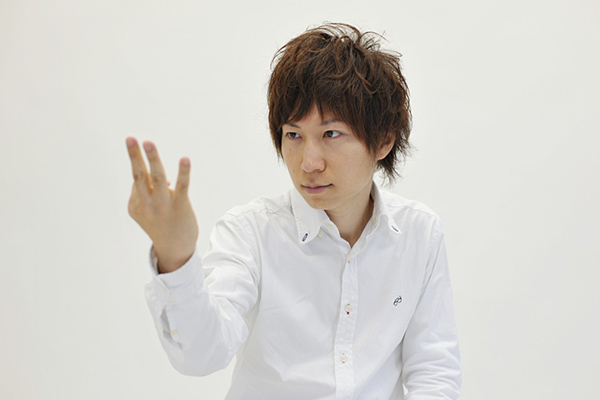face: (281, 96, 393, 208)
hand: (123, 136, 199, 253)
